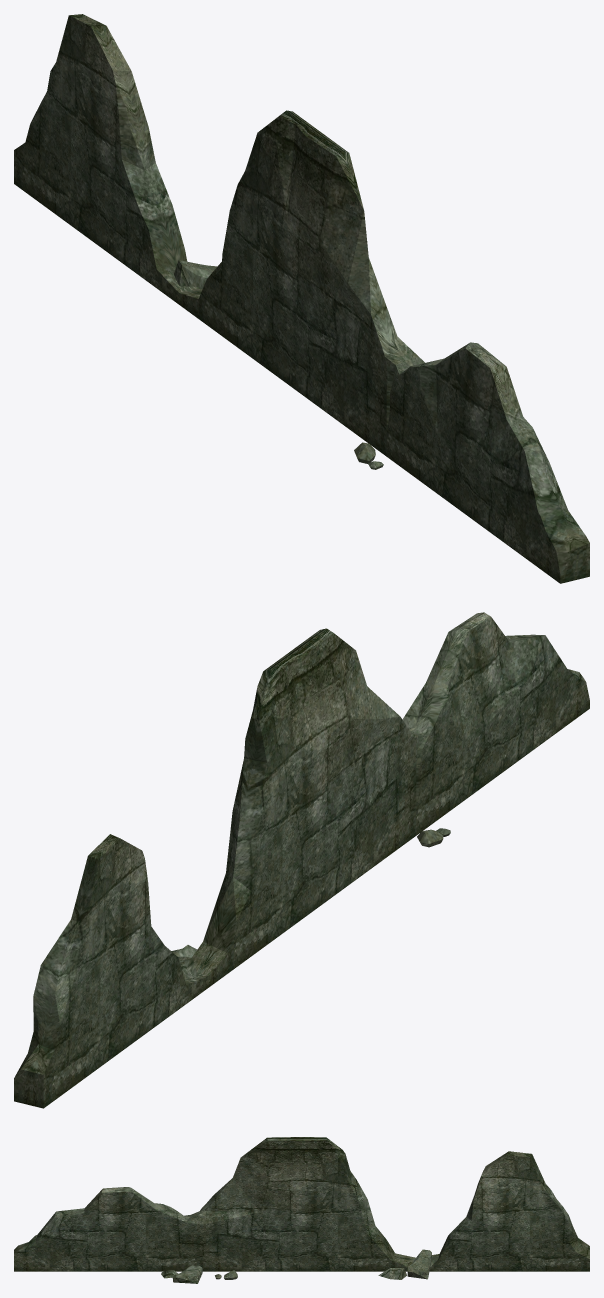
File: thm_dant_jedi_wall_1_l0.fbx
The picture shows the model from 3 angles, top to bottom: view 1: azimuth 30°, elevation 25°; view 2: azimuth 150°, elevation 25°; view 3: azimuth 270°, elevation 25°; orthographic projection. The views are drawn at different scales.
Parts seen in each view (by area): view 1: mesh_node; view 2: mesh_node; view 3: mesh_node.
Part boxes in pixels (x1=…): mesh_node: x1=14, y1=14, x2=589, y2=583; mesh_node: x1=14, y1=612, x2=589, y2=1108; mesh_node: x1=14, y1=1137, x2=589, y2=1283.
Size of the model in its own units: 1.8 by 4.07 by 16.
